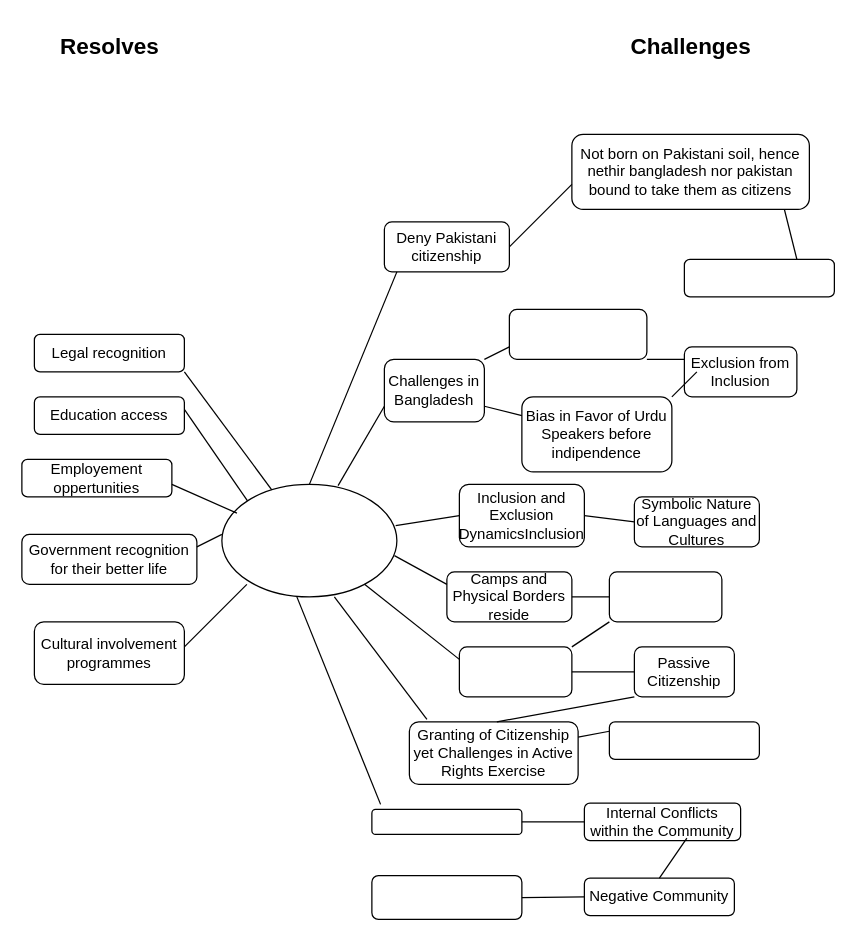
Some shapes in this 856 by 941 pixel diagram are drawn without their labels. The shapes that lost their labels are listed below. From the top down, each one's box as (x1, y1, x2, y2) in pixels, then its label:
(683, 258, 834, 297): Not any citizen untill 2008
(508, 308, 647, 359): Linguistic and Cultural Differences
(221, 483, 397, 597): Citizenship Status of Urdu-speaking Populations
(608, 571, 722, 622): Stranded in Bangladesh
(458, 646, 572, 697): Limited Rights Exercise
(608, 721, 759, 759): Structural Inequalities
(371, 808, 522, 834): Ongoing Struggles
(371, 874, 522, 919): No constituent Power
